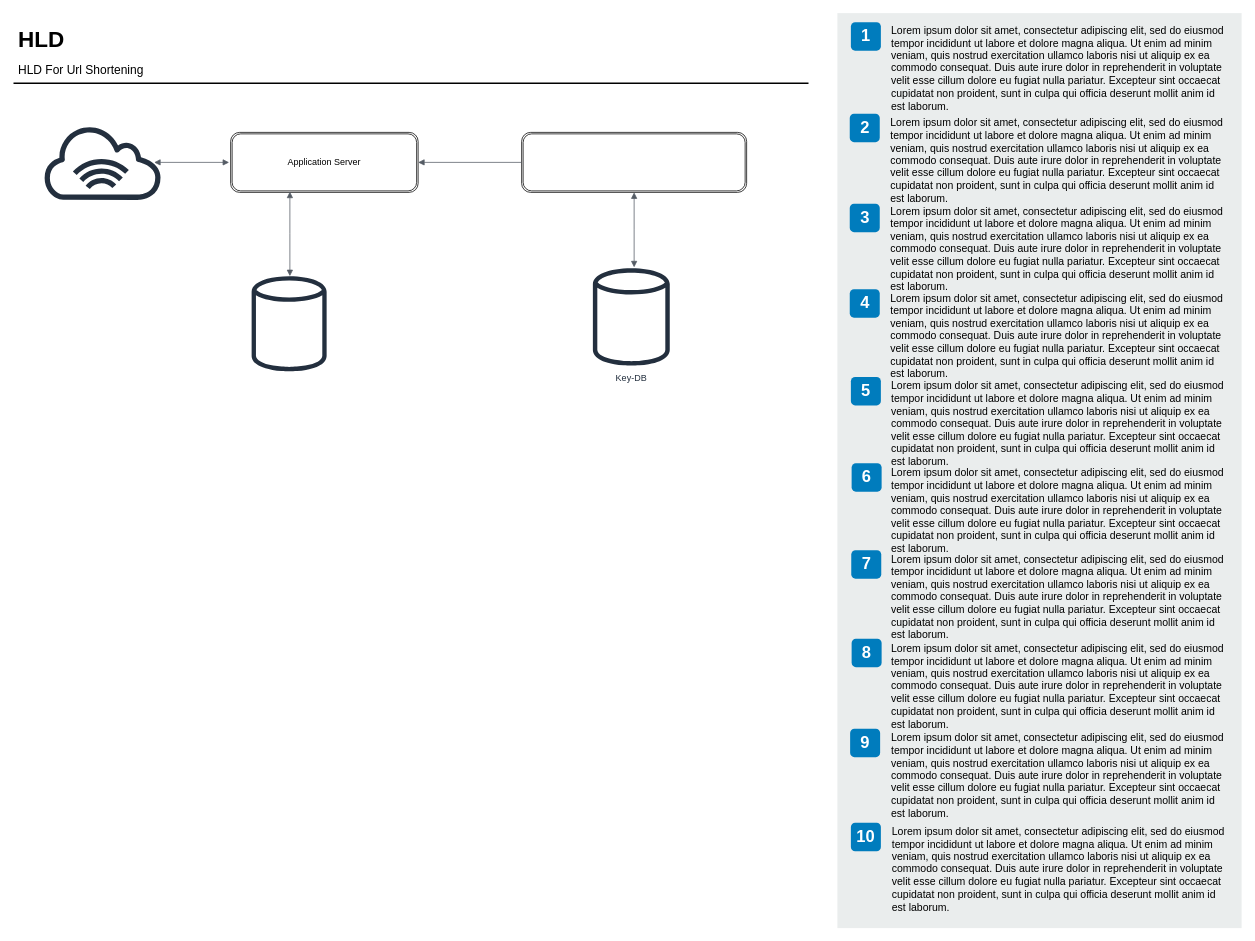
The diagram is 1255 pixels wide and 941 high, and some of its shapes have lost their labels. Each missing label, with the centre of its shape:
"Client" goes at point 102,162.
"Database" goes at point 288,323.
"Key Generation Service" goes at point 634,162.
